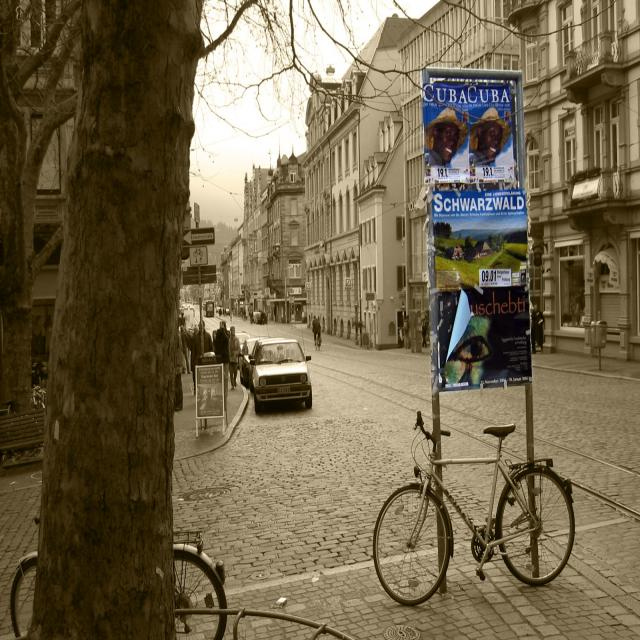Werbetafel frei: (410, 54, 550, 392)
